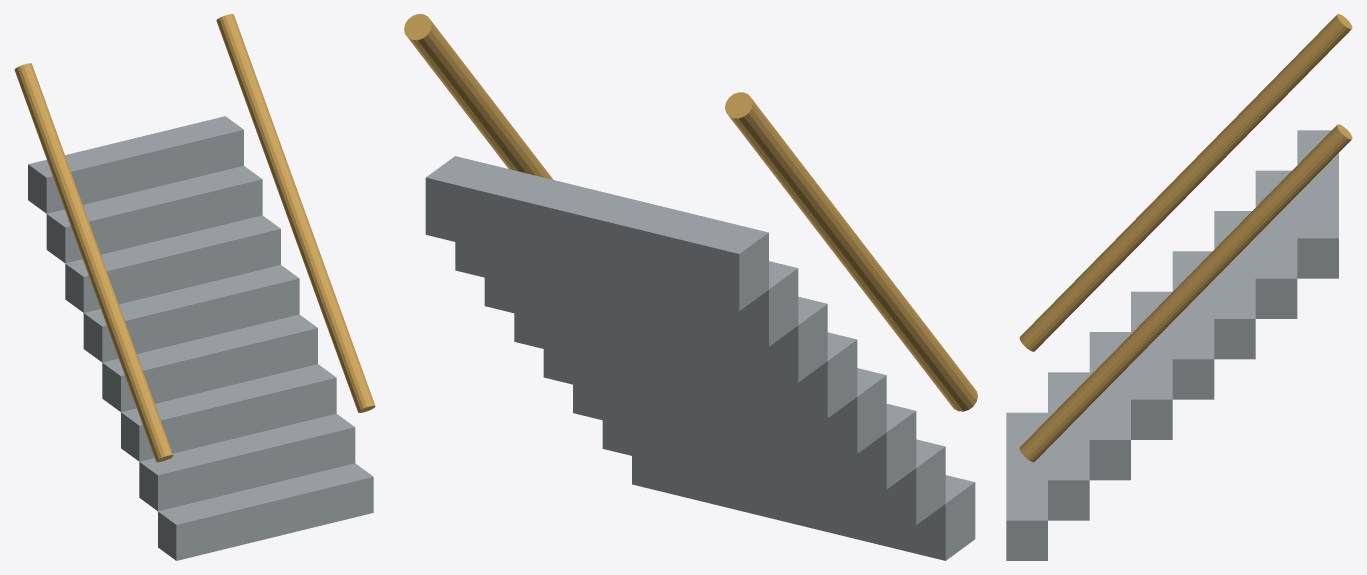
The model's file is stairs.glb.
3 renders of one model, left to right at view 1: azimuth 30°, elevation 25°; view 2: azimuth 150°, elevation 25°; view 3: azimuth 270°, elevation 25°, orthographic. The views are drawn at different scales.
Visible parts, largest first — view 1: stair tread, stair tread.001, stair tread.006, stair tread.004, stair tread.007, stair tread.005, stair tread.003, stair tread.002, stairs rail, stairs rail.001; view 2: stair tread.007, stair tread, stair tread.002, stair tread.004, stair tread.001, stair tread.005, stair tread.006, stair tread.003, stairs rail, stairs rail.001; view 3: stairs rail, stairs rail.001, stair tread, stair tread.006, stair tread.004, stair tread.007, stair tread.005, stair tread.001, stair tread.002, stair tread.003.
Part boxes in pixels (x1,y1,x2,y2): stair tread: (158,463,373,560); stair tread.001: (139,413,355,511); stair tread.006: (46,165,262,263); stair tread.004: (83,265,299,362); stair tread.007: (28,116,243,213); stair tread.005: (65,215,280,312); stair tread.003: (102,314,317,411); stair tread.002: (121,364,336,461); stairs rail: (14,63,173,462); stairs rail.001: (216,14,375,412); stair tread.007: (425,156,768,311); stair tread: (632,456,975,560); stair tread.002: (573,384,916,489); stair tread.004: (514,313,857,418); stair tread.001: (602,420,945,524); stair tread.005: (484,278,827,382); stair tread.006: (455,242,798,346); stair tread.003: (543,349,886,453); stairs rail: (725,92,977,411); stairs rail.001: (404,14,553,179); stairs rail: (1019,14,1352,351); stairs rail.001: (1019,124,1352,462); stair tread: (1006,412,1047,560); stair tread.006: (1255,170,1297,318); stair tread.004: (1172,251,1214,399); stair tread.007: (1297,130,1338,278); stair tread.005: (1214,211,1255,359); stair tread.001: (1048,372,1089,520); stair tread.002: (1089,332,1130,480); stair tread.003: (1131,291,1172,439).
Size of the model in its own units: 0.95 by 1.62 by 1.17.
